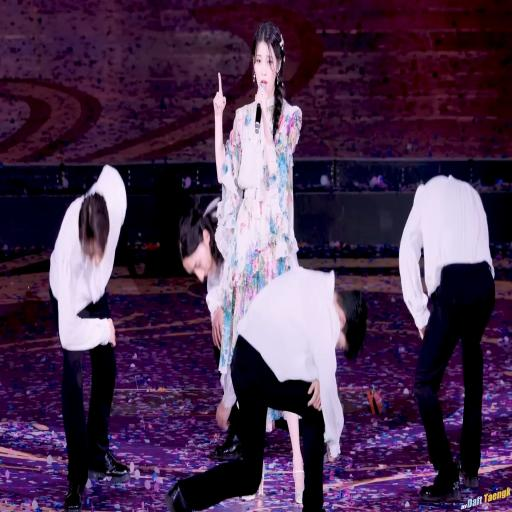IU: (252, 23, 283, 97)
